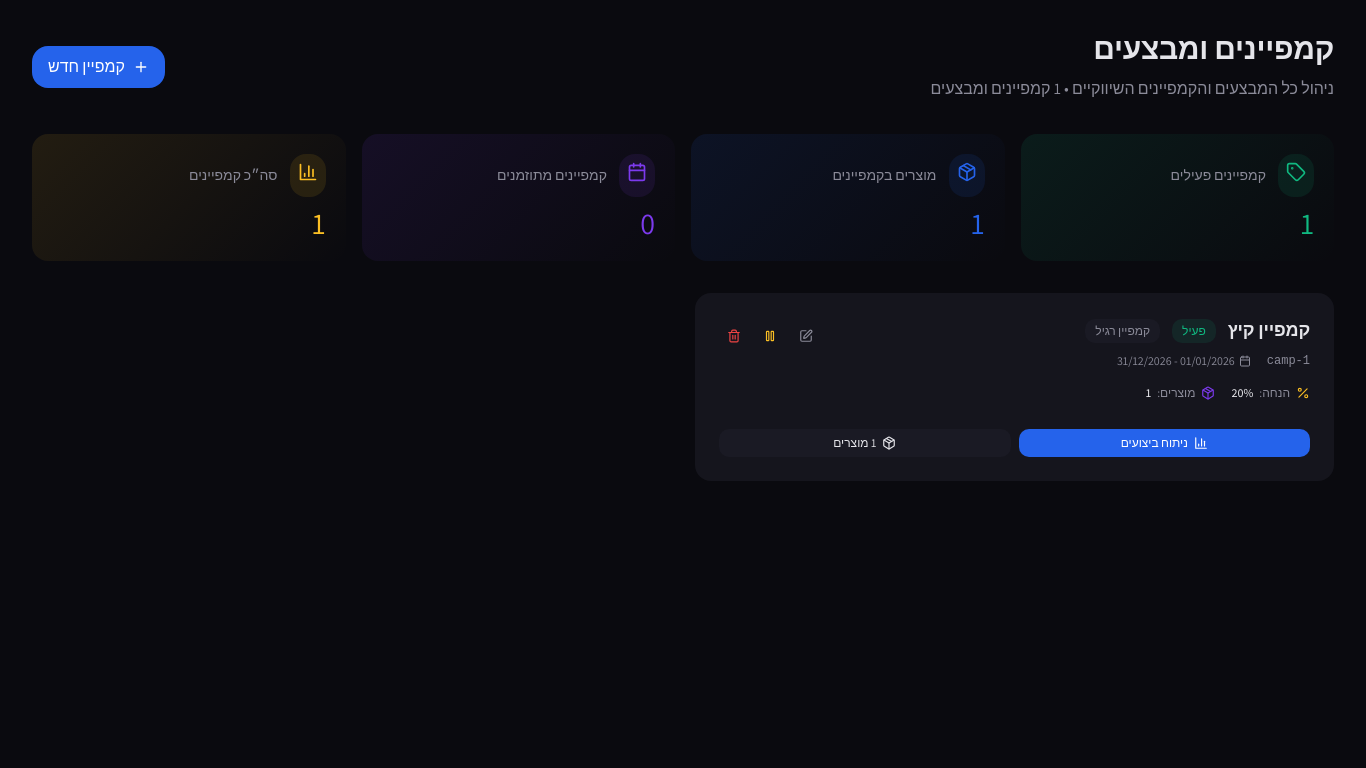
it: AdminCampaignsPage — Analytics modal (real, server-derived) › renders real analytics values returned by the server
This screenshot has width=1366, height=768.
Expected: the heading "קמפיין קיץ" is shown, [1228,317,1310,345]
What coordinates should you click on to do the following:
click the button "ניתוח ביצועים"
I would click on:
 (1164, 443)
Its box is [1018,429,1310,457].
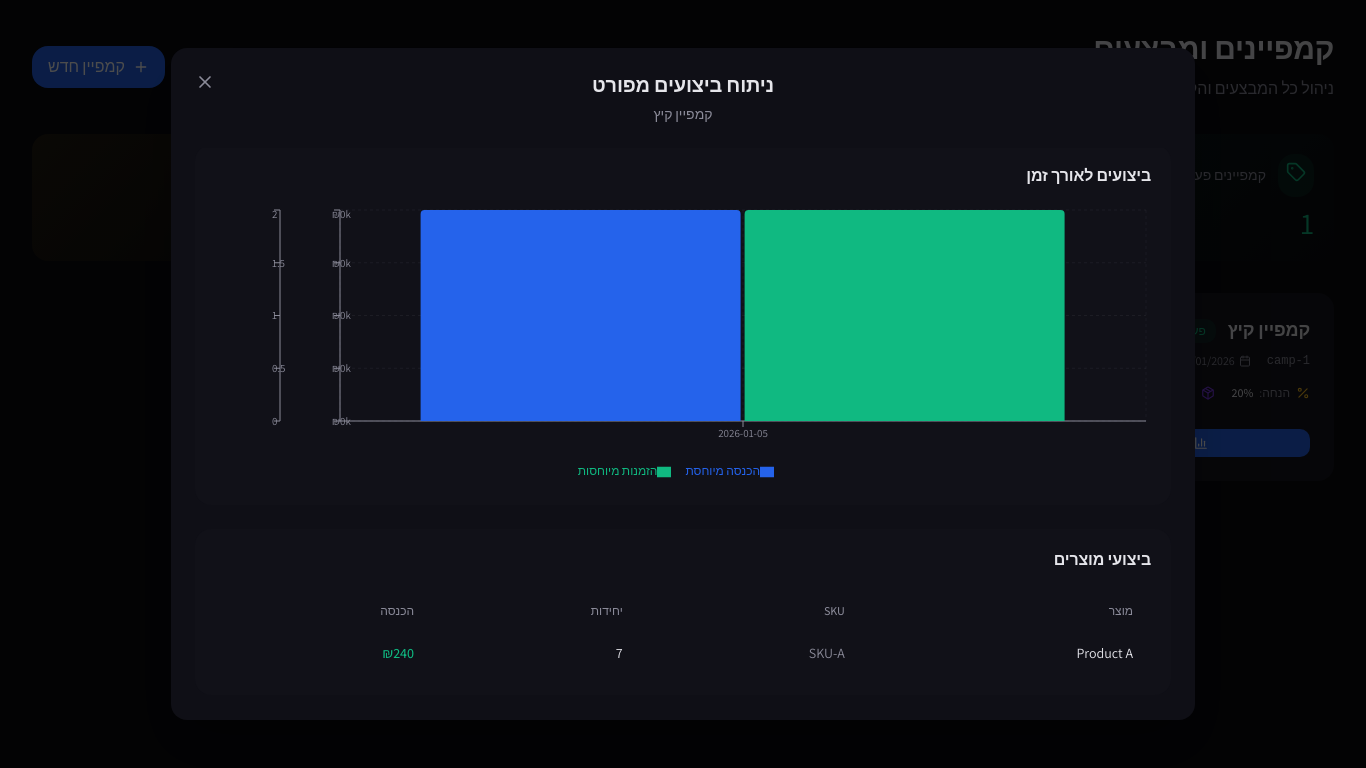
Expected: the text "Product A" is shown, [863,633,1149,673]
